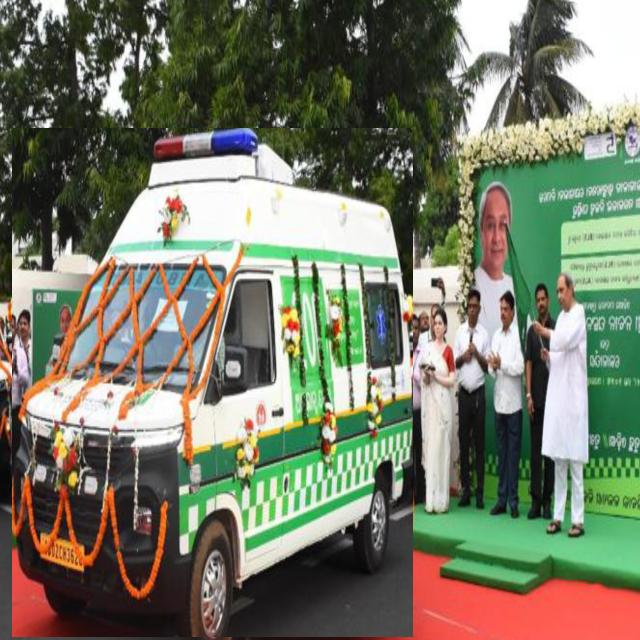emergency: (12, 129, 412, 637)
